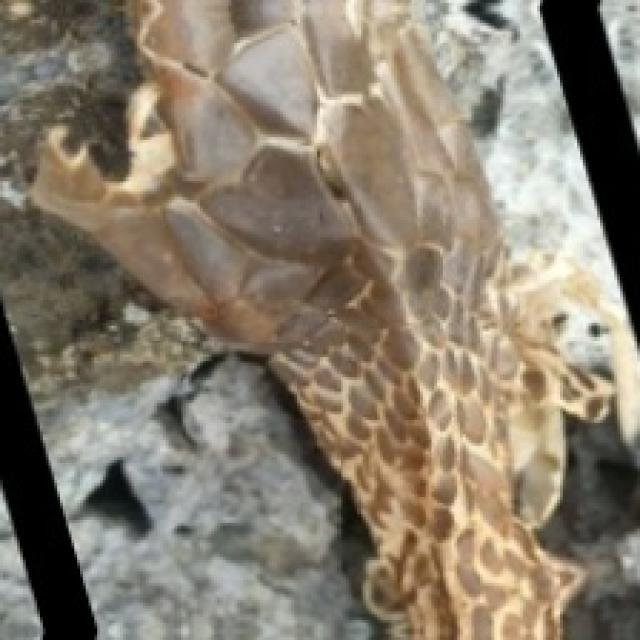philippine cobra: (31, 0, 634, 637), (551, 0, 637, 329)
